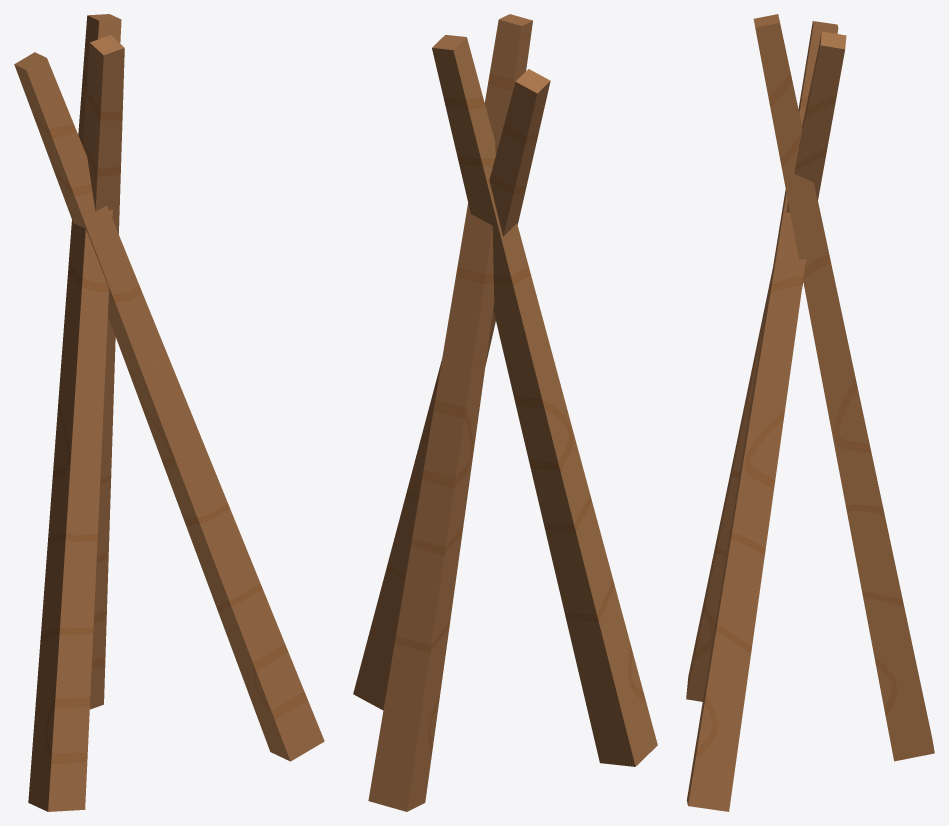
Rendered from Tent.fbx.
3 renders of one model, left to right at view 1: azimuth 30°, elevation 25°; view 2: azimuth 150°, elevation 25°; view 3: azimuth 270°, elevation 25°, orthographic. The views are drawn at different scales.
Parts seen in each view (by area): view 1: Tent; view 2: Tent; view 3: Tent.
Boxes of the visible parts, bbox=[...] form: Tent: bbox=[14, 14, 324, 811]; Tent: bbox=[353, 14, 657, 811]; Tent: bbox=[686, 14, 934, 811].
Bounding box in the file's own units: 89.32 × 225 × 70.48.
Materials: 1 (1 with a texture image).
